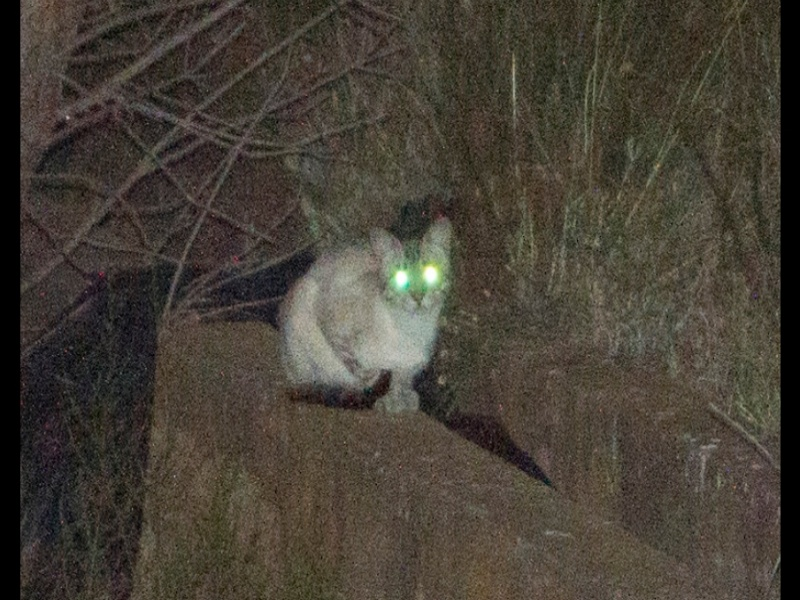cat: (281, 217, 456, 408)
